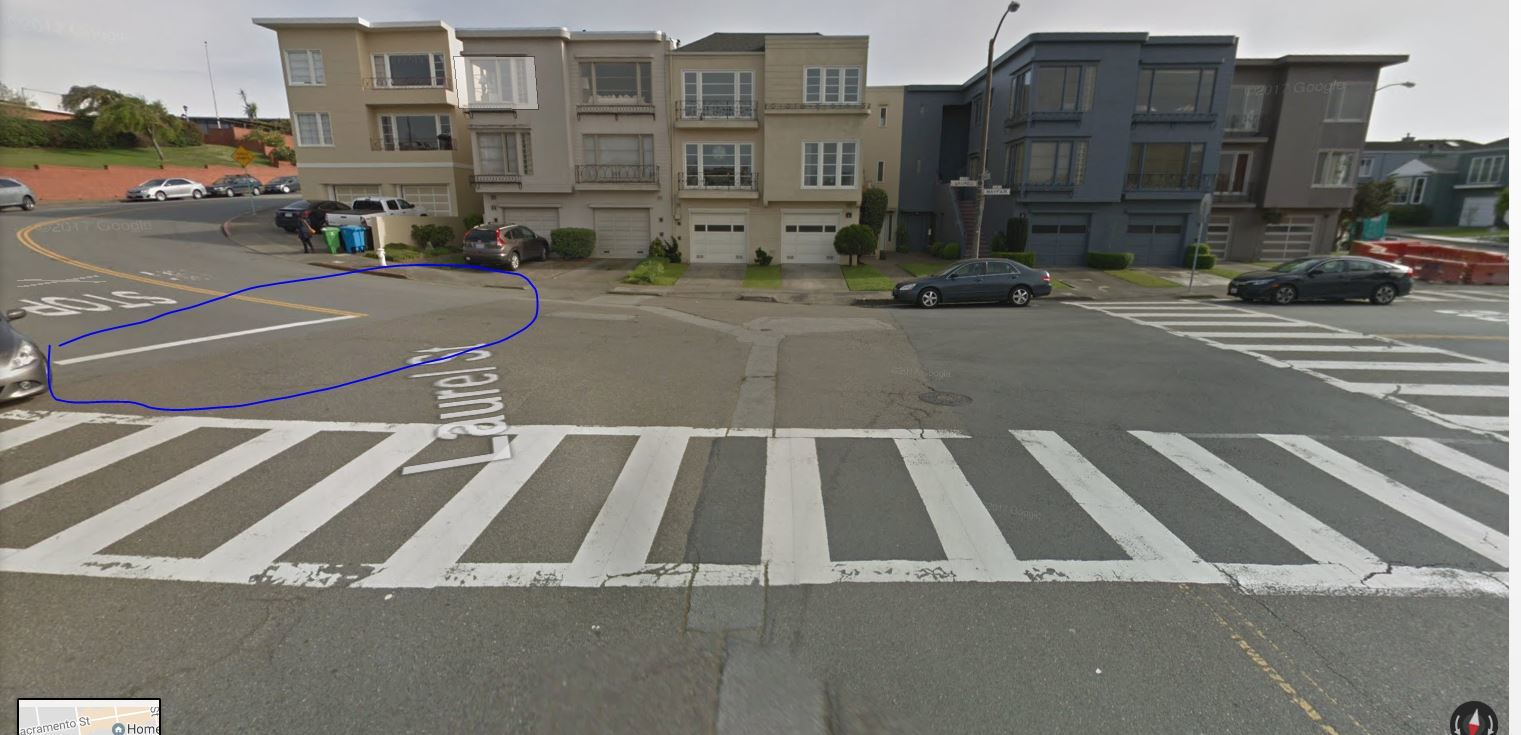Crosswalk: (10, 391, 1521, 642), (1054, 272, 1521, 444)
